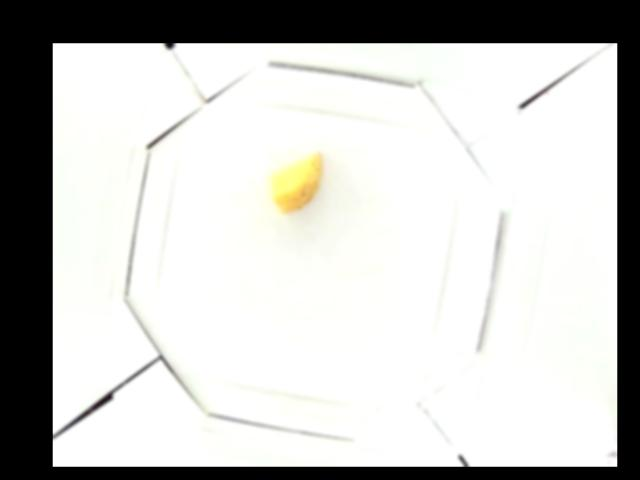Potato: (265, 150, 323, 214)
